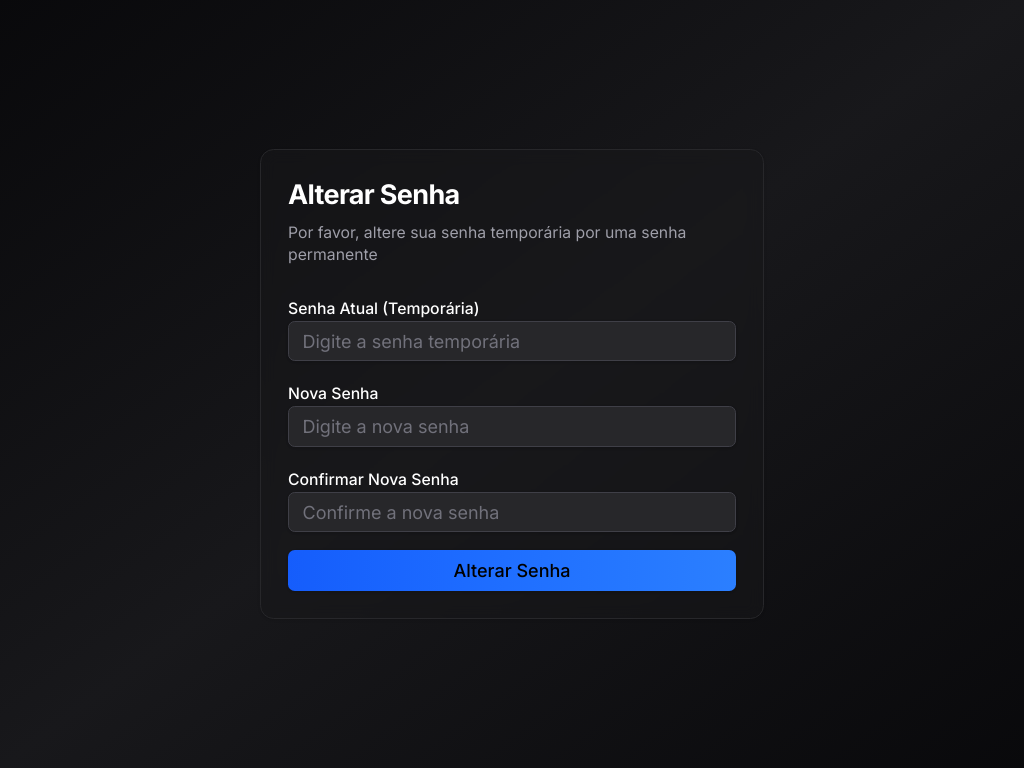
Test: Change Password Page › Validation › should validate empty current password
Click the button with test id "change-password-submit" at (512, 571), box left=288, top=550, right=736, bottom=591
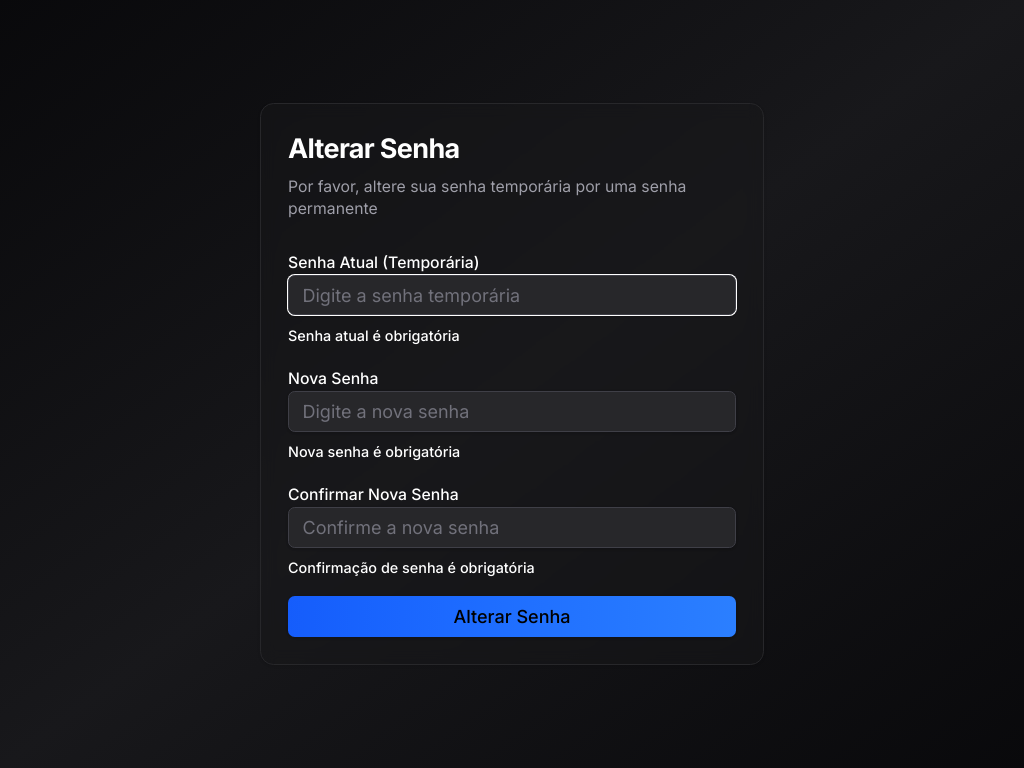
Expected: the text "Senha atual é obrigatória" is shown, left=288, top=327, right=460, bottom=344
